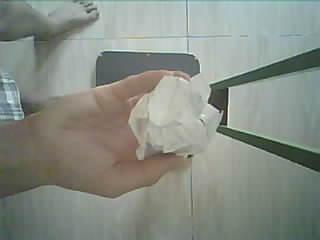paper: (129, 74, 222, 160)
